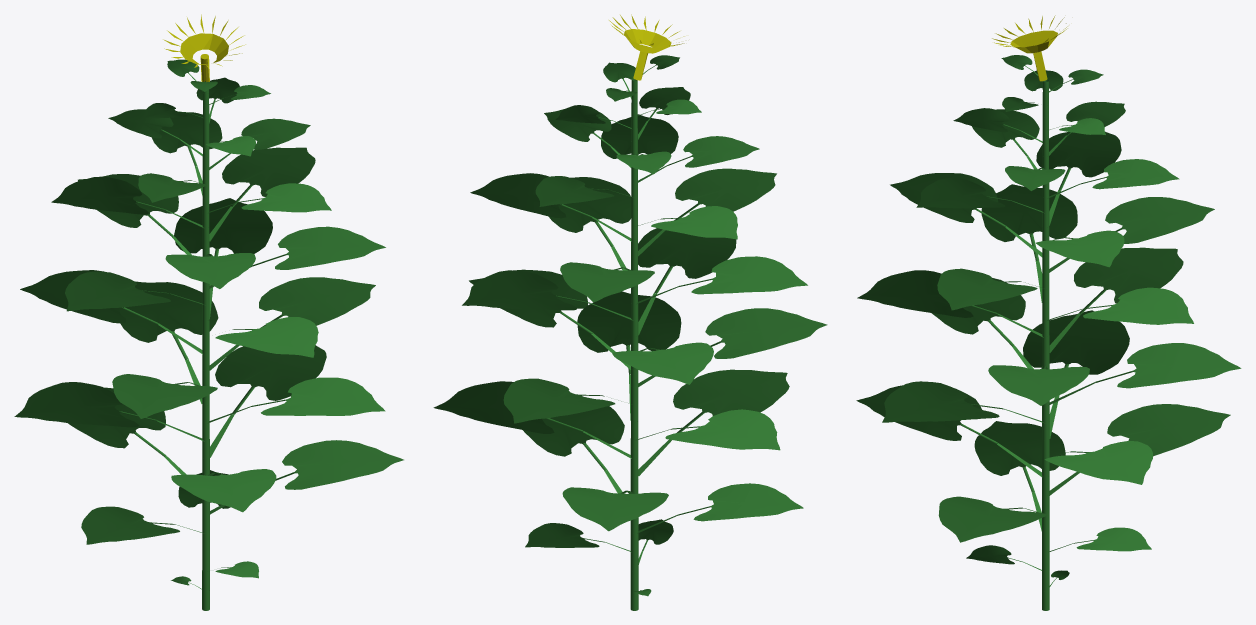
The model's file is sunflower_100.obj.
The picture shows the model from 3 angles, left to right: view 1: azimuth 30°, elevation 25°; view 2: azimuth 150°, elevation 25°; view 3: azimuth 270°, elevation 25°; orthographic projection.
Parts seen in each view (by area): view 1: GLType.Leaf, GLType.Internode, GLType.FruitFemale; view 2: GLType.Leaf, GLType.Internode, GLType.FruitFemale; view 3: GLType.Leaf, GLType.Internode, GLType.FruitFemale.
Part boxes in pixels (left/top/right/bottom): GLType.Leaf: left=14, top=59, right=403, bottom=589; GLType.Internode: left=202, top=89, right=209, bottom=610; GLType.FruitFemale: left=163, top=14, right=245, bottom=82; GLType.Leaf: left=433, top=55, right=827, bottom=596; GLType.Internode: left=630, top=78, right=638, bottom=610; GLType.FruitFemale: left=609, top=14, right=684, bottom=80; GLType.Leaf: left=856, top=55, right=1241, bottom=586; GLType.Internode: left=1042, top=79, right=1049, bottom=610; GLType.FruitFemale: left=992, top=15, right=1067, bottom=81.
Size of what is drawn, in the model's own units: 0.8599 by 1.43 by 0.8532.
